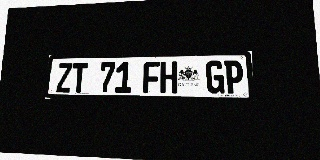1: (115, 62, 132, 93)
7: (99, 62, 115, 93)
F: (143, 61, 160, 93)
G: (206, 60, 224, 94)
H: (160, 61, 177, 93)
P: (224, 60, 244, 94)
T: (71, 62, 88, 93)
Z: (56, 63, 72, 93)
